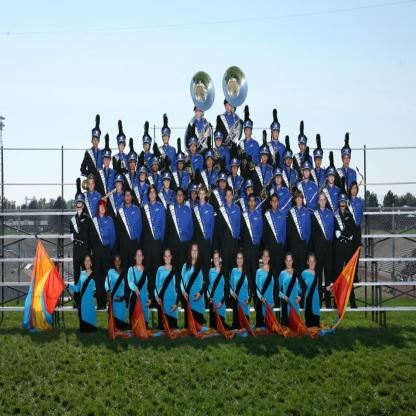face: (343, 154, 351, 168), (192, 247, 199, 261), (177, 191, 184, 204), (115, 257, 122, 270), (165, 252, 172, 265), (164, 177, 171, 189), (227, 192, 234, 204), (320, 196, 327, 208), (137, 253, 144, 265), (340, 200, 348, 210), (250, 197, 256, 210), (273, 197, 279, 210), (264, 252, 270, 265), (89, 180, 96, 191), (125, 192, 132, 203), (247, 187, 254, 198), (286, 157, 293, 168), (117, 182, 123, 194), (150, 190, 156, 202), (200, 190, 206, 202), (238, 255, 244, 267), (310, 258, 316, 270), (140, 172, 147, 182), (226, 103, 233, 113), (273, 130, 280, 140), (262, 154, 269, 164), (329, 174, 336, 184), (94, 137, 100, 148), (246, 127, 252, 138), (233, 165, 239, 176), (208, 158, 214, 169), (192, 191, 198, 202), (276, 175, 282, 186), (352, 185, 358, 196), (86, 258, 92, 269), (287, 258, 293, 269), (77, 201, 84, 210), (220, 181, 227, 190), (100, 205, 106, 215), (105, 158, 111, 168), (297, 196, 303, 206), (316, 158, 322, 168), (215, 255, 220, 267), (305, 168, 310, 179), (131, 161, 137, 170), (164, 135, 170, 144), (216, 139, 222, 148), (191, 145, 197, 154), (300, 143, 306, 152), (120, 142, 125, 152), (153, 164, 159, 172), (179, 161, 184, 170), (145, 143, 150, 151), (197, 111, 202, 118)
